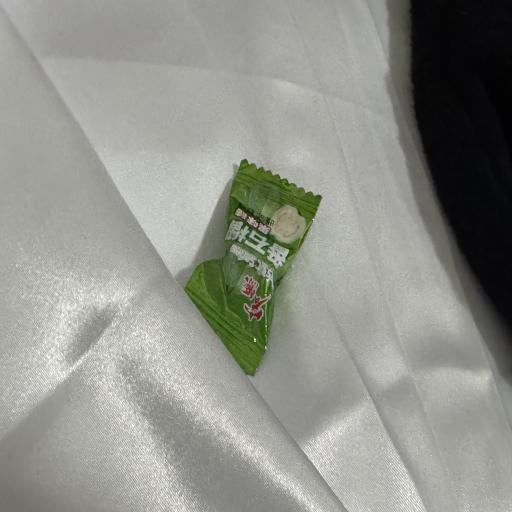chocolate: (185, 160, 321, 375)
